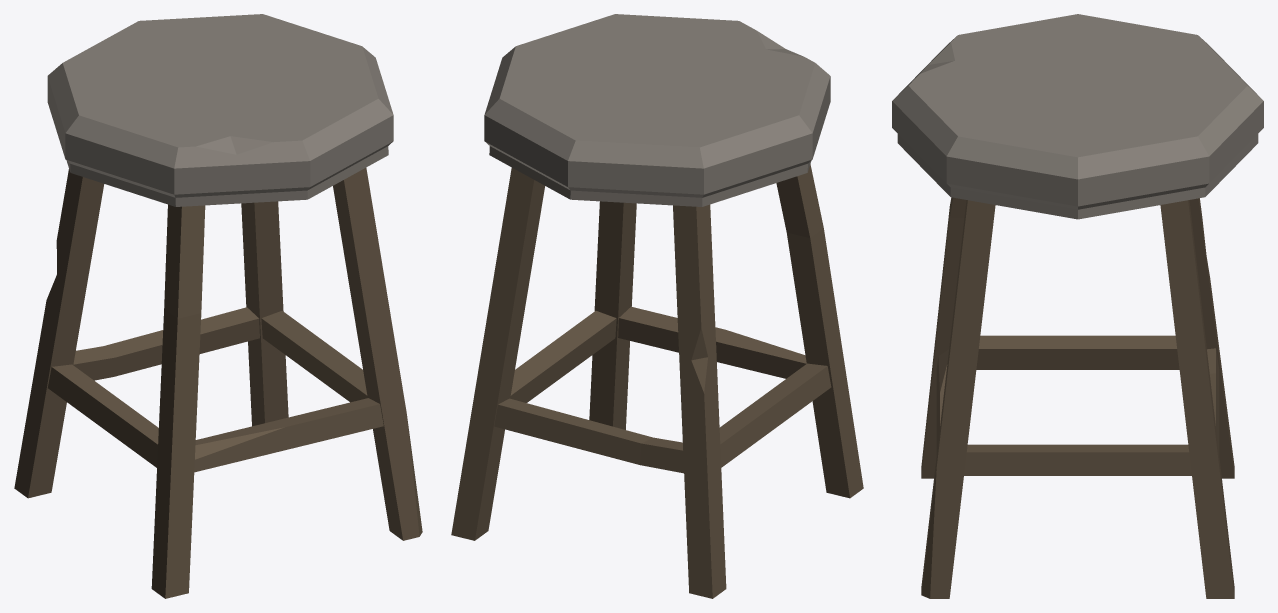
The model's file is SM_Props_City_Beach_Chair_02.fbx.
3 renders of one model, left to right at view 1: azimuth 30°, elevation 25°; view 2: azimuth 150°, elevation 25°; view 3: azimuth 270°, elevation 25°, orthographic. The views are drawn at different scales.
Parts seen in each view (by area): view 1: SM_Props_City_Beach_Chair_02; view 2: SM_Props_City_Beach_Chair_02; view 3: SM_Props_City_Beach_Chair_02.
Part boxes in pixels (x1,y1,x2,y2): SM_Props_City_Beach_Chair_02: (14, 14, 422, 598); SM_Props_City_Beach_Chair_02: (451, 14, 863, 598); SM_Props_City_Beach_Chair_02: (892, 14, 1263, 598).
Size of the model in its own units: 60 by 79.64 by 60.
